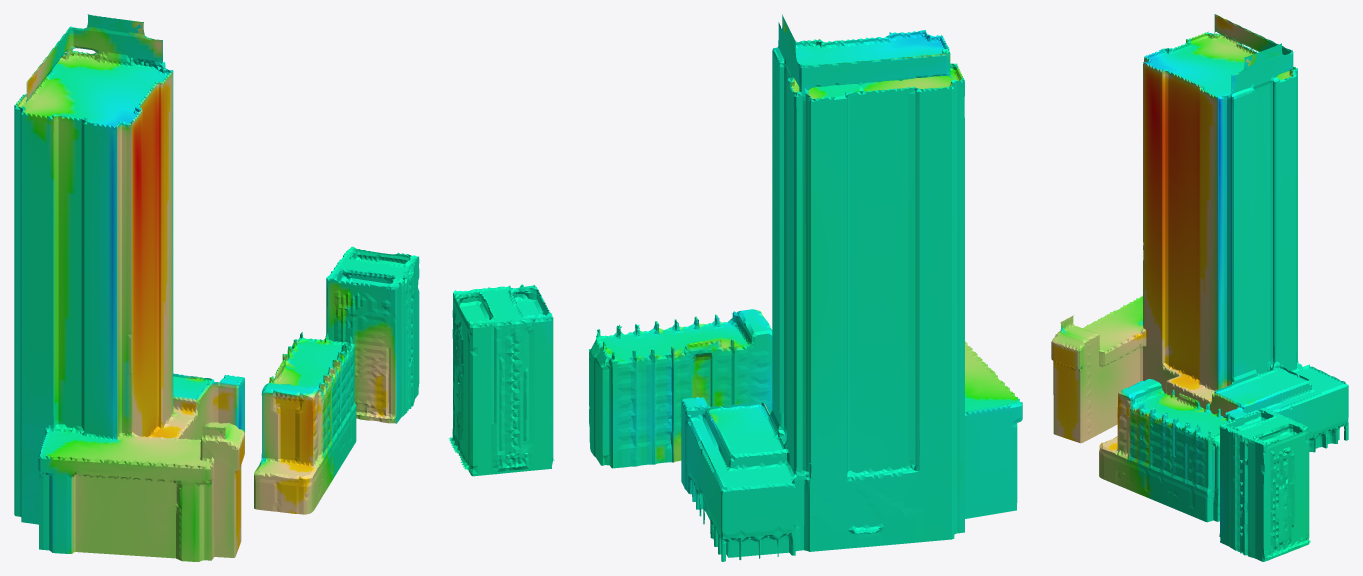
The model's file is windpressure_building_13.gltf.
3 views of the same model, side by side, from view 1: azimuth 30°, elevation 25°; view 2: azimuth 150°, elevation 25°; view 3: azimuth 270°, elevation 25° (orthographic). The views are drawn at different scales.
Visible parts, largest first — view 1: 0; view 2: 0; view 3: 0.
Boxes of the visible parts, left/top/right/bottom form: 0: left=14, top=14, right=419, bottom=561; 0: left=449, top=14, right=1022, bottom=561; 0: left=1051, top=14, right=1348, bottom=561.
Bounding box in the file's own units: 124 × 118 × 82.76.
1 material, 1 textured.
